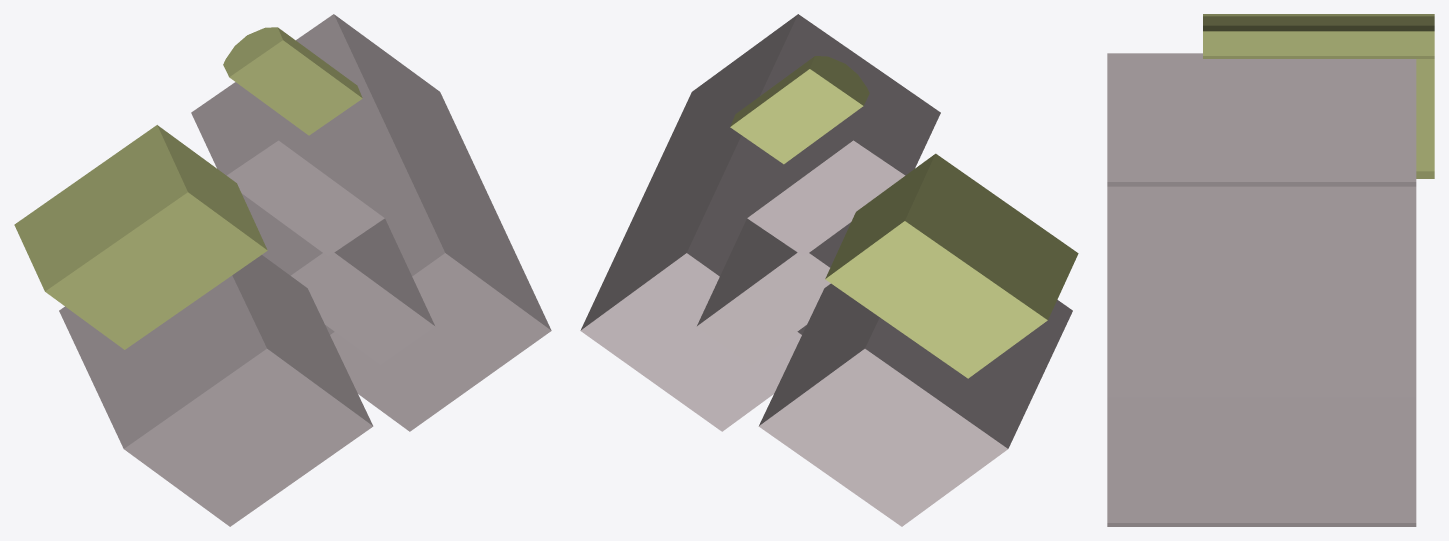
3 views of the same model, side by side, from view 1: azimuth 30°, elevation 25°; view 2: azimuth 150°, elevation 25°; view 3: azimuth 270°, elevation 25° (orthographic). The views are drawn at different scales.
Parts seen in each view (by area): view 1: 0_2_2_0_0_0_3_1_1_1; view 2: 0_2_2_0_0_0_3_1_1_1; view 3: 0_2_2_0_0_0_3_1_1_1.
Boxes of the visible parts, box(x1,y1,x2,y2) form: 0_2_2_0_0_0_3_1_1_1: box(14, 14, 551, 526); 0_2_2_0_0_0_3_1_1_1: box(580, 14, 1078, 526); 0_2_2_0_0_0_3_1_1_1: box(1107, 14, 1434, 526).
Bounding box in the file's own units: 27.66 × 23.89 × 12.71.
